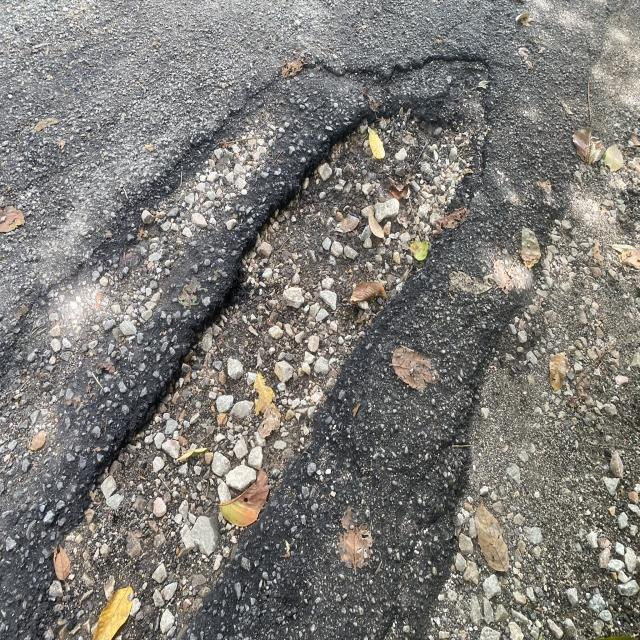pothole: (16, 10, 532, 640)
